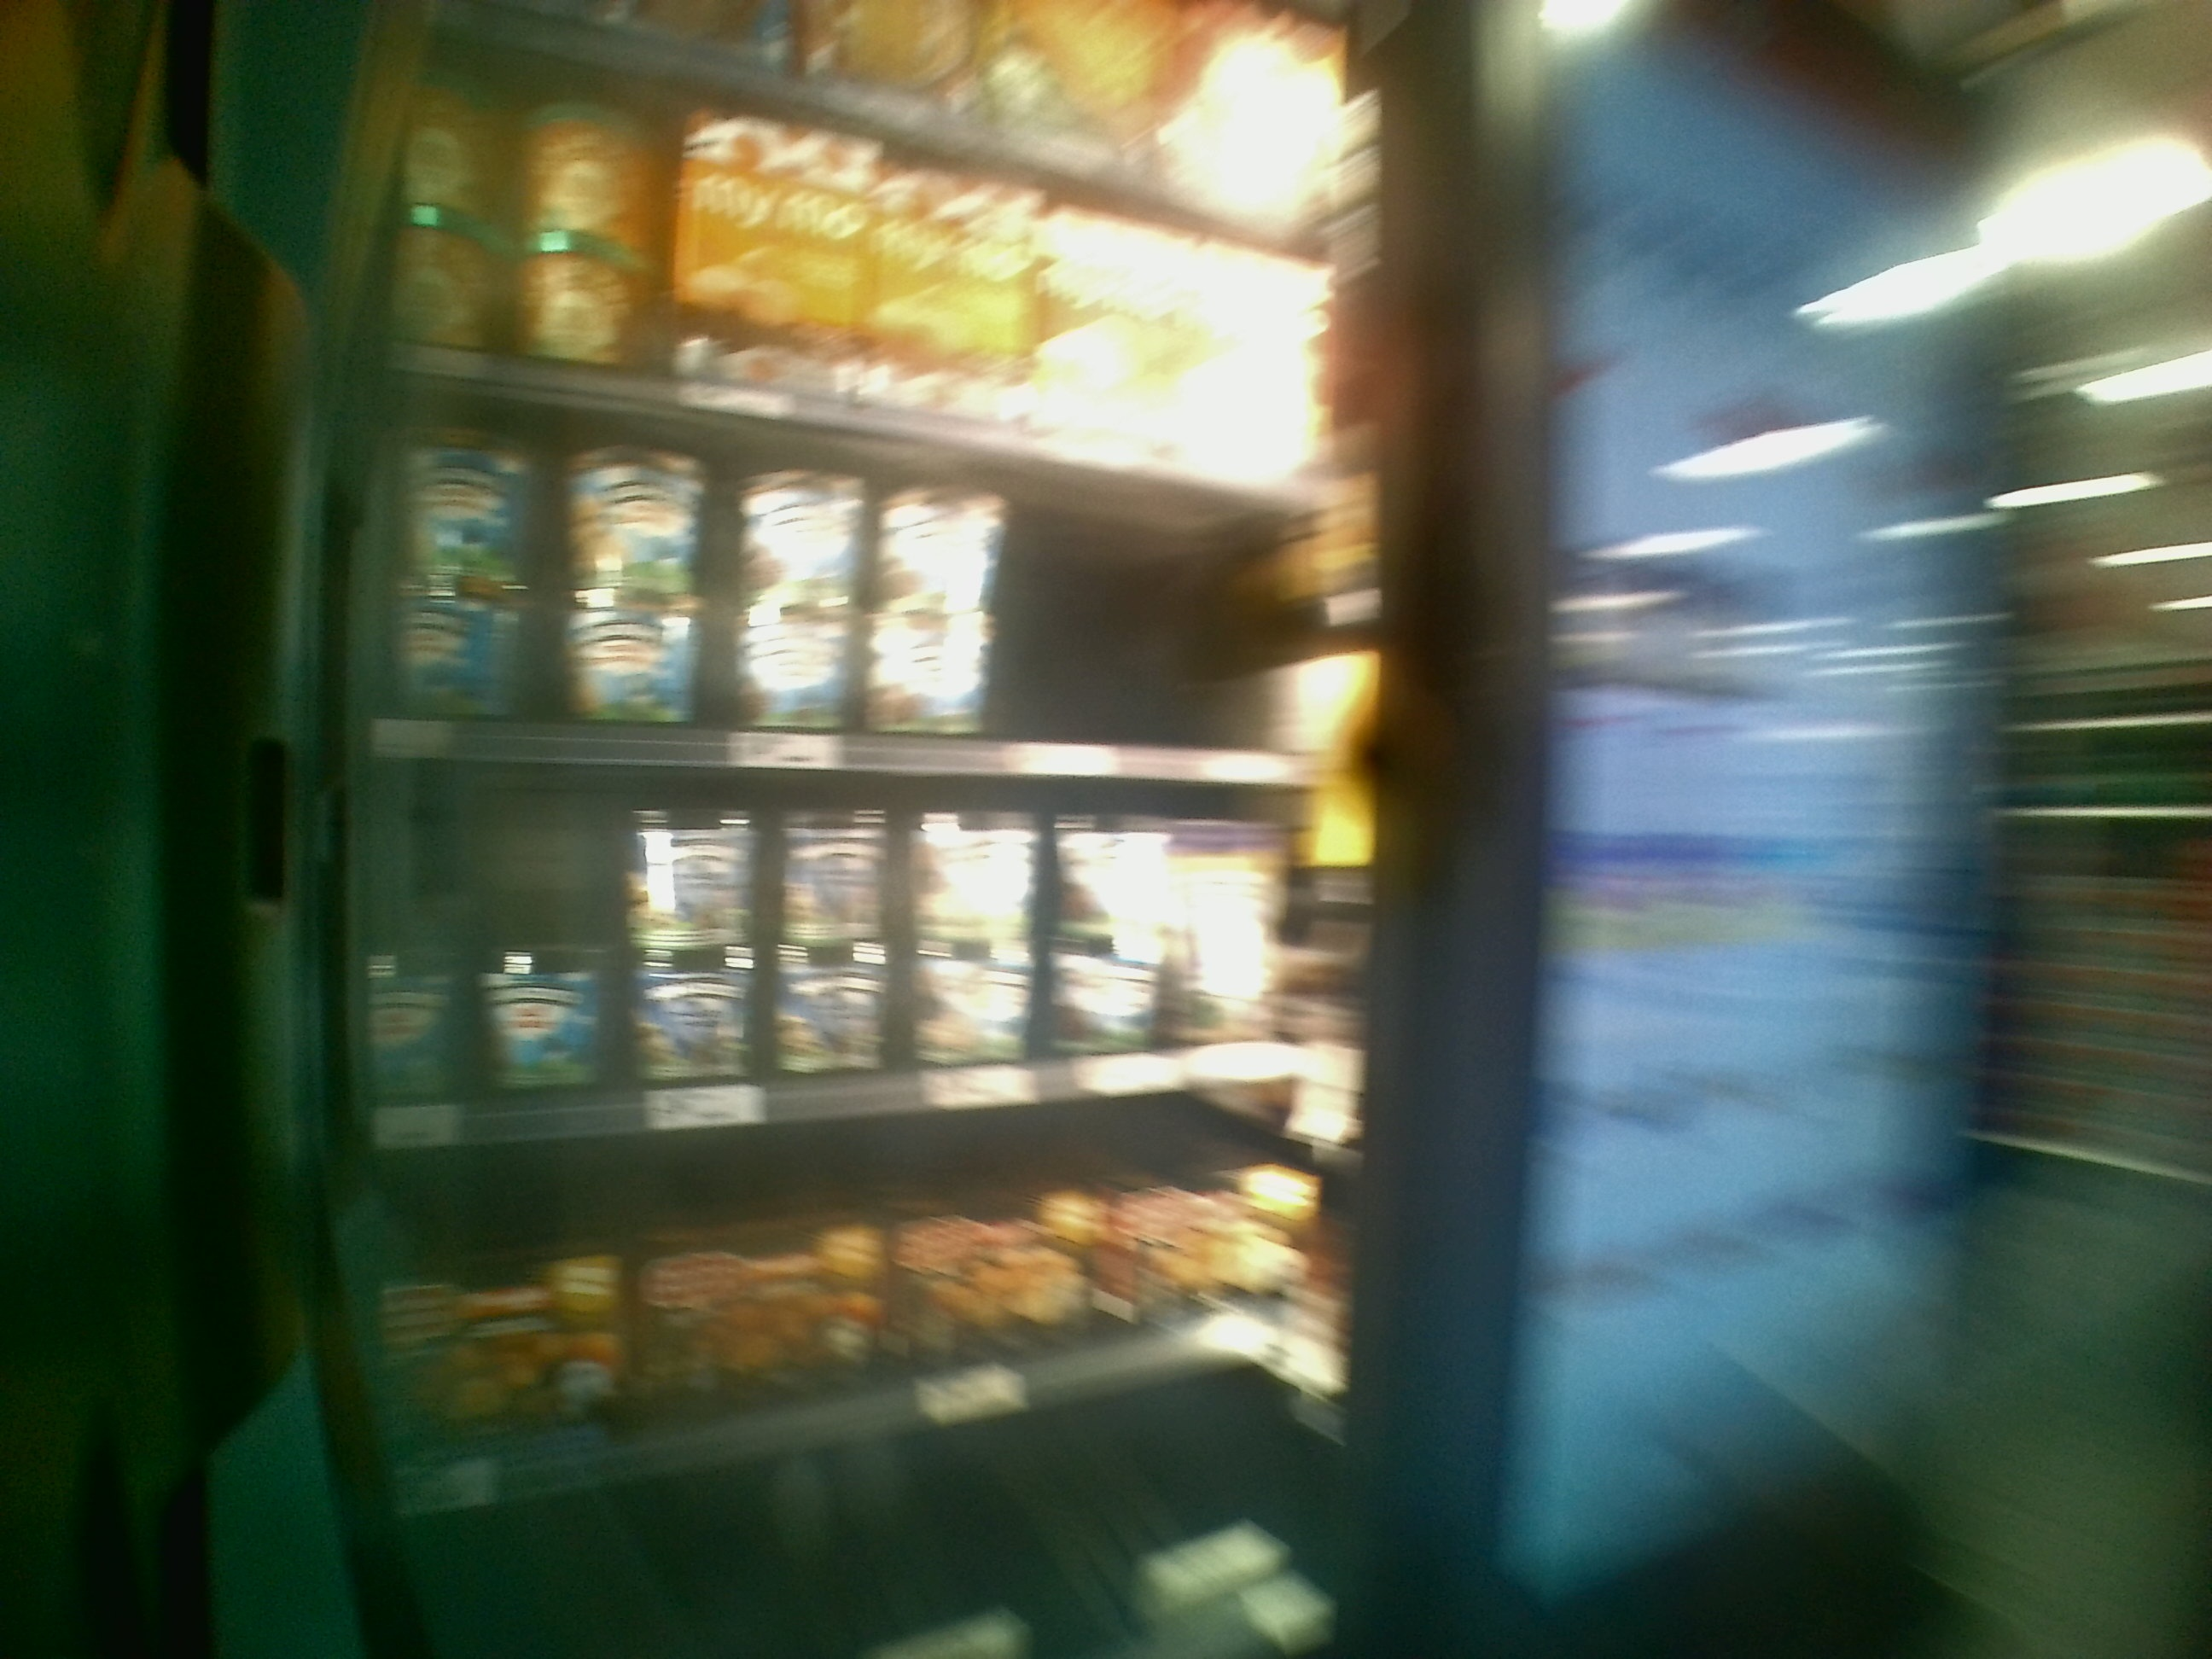shelf: (387, 362, 1285, 769), (430, 92, 1343, 455), (361, 716, 1299, 1065), (374, 1117, 1318, 1370)
